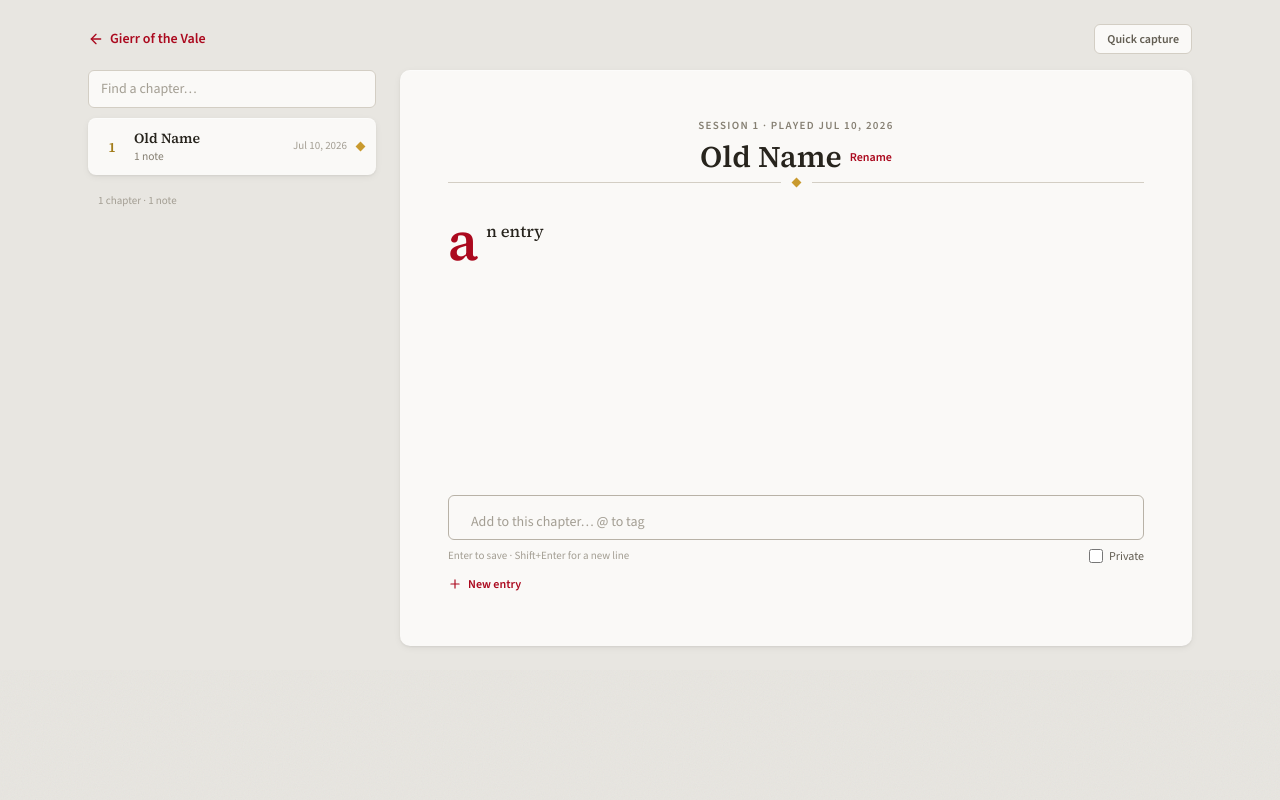
Test case: JournalPage › lets a participant rename the chapter title in place
Click the button "Rename".
click(871, 156)  # box [850, 148, 892, 164]
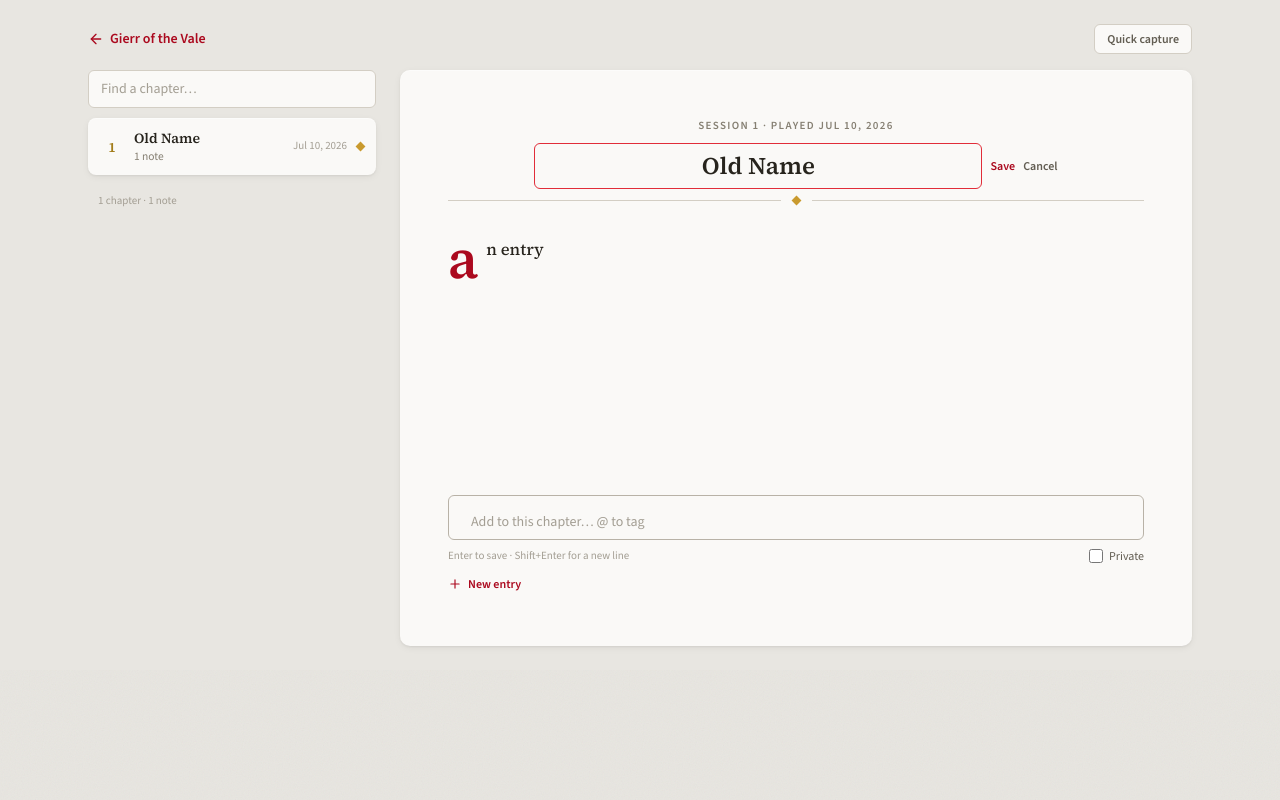
Replace the text in the field named "Chapter title" with "New Name" at (758, 166), box [534, 142, 982, 188]
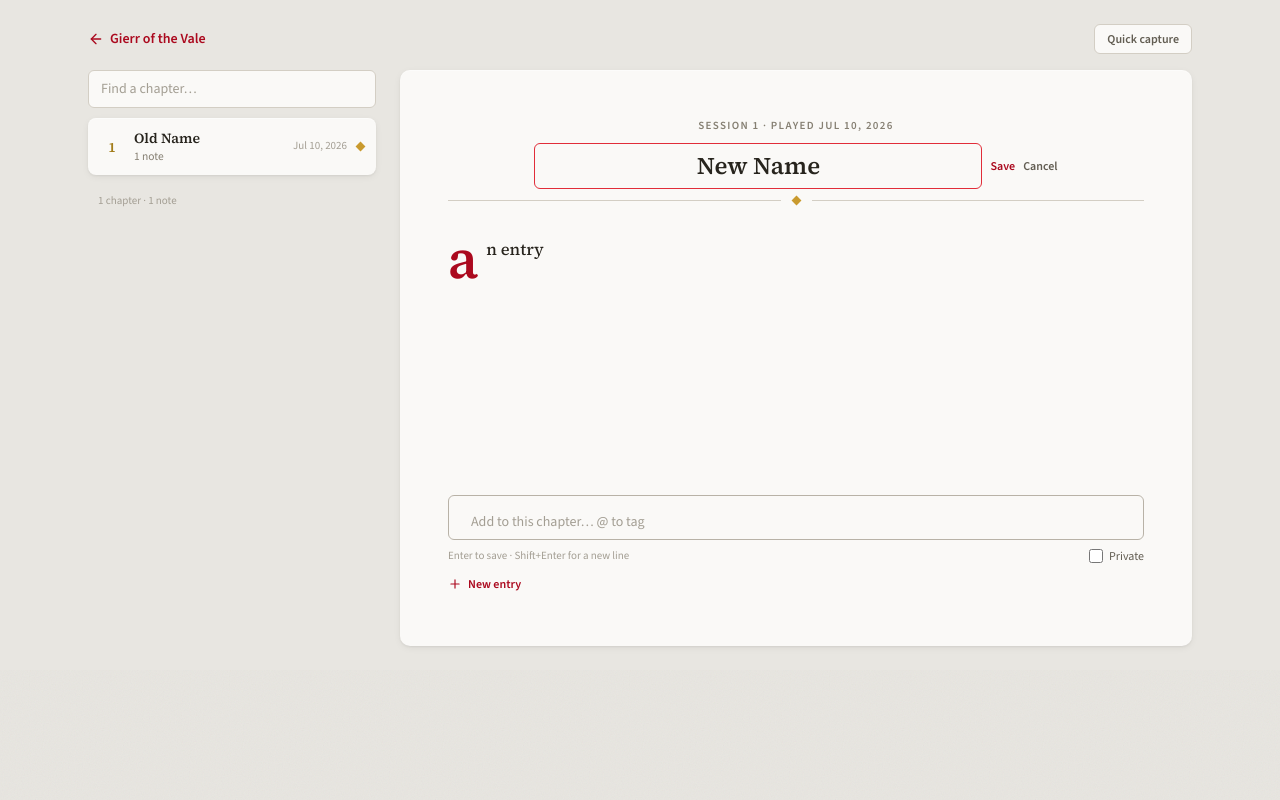
Click the button "Save".
click(1003, 166)  # box [990, 158, 1015, 174]
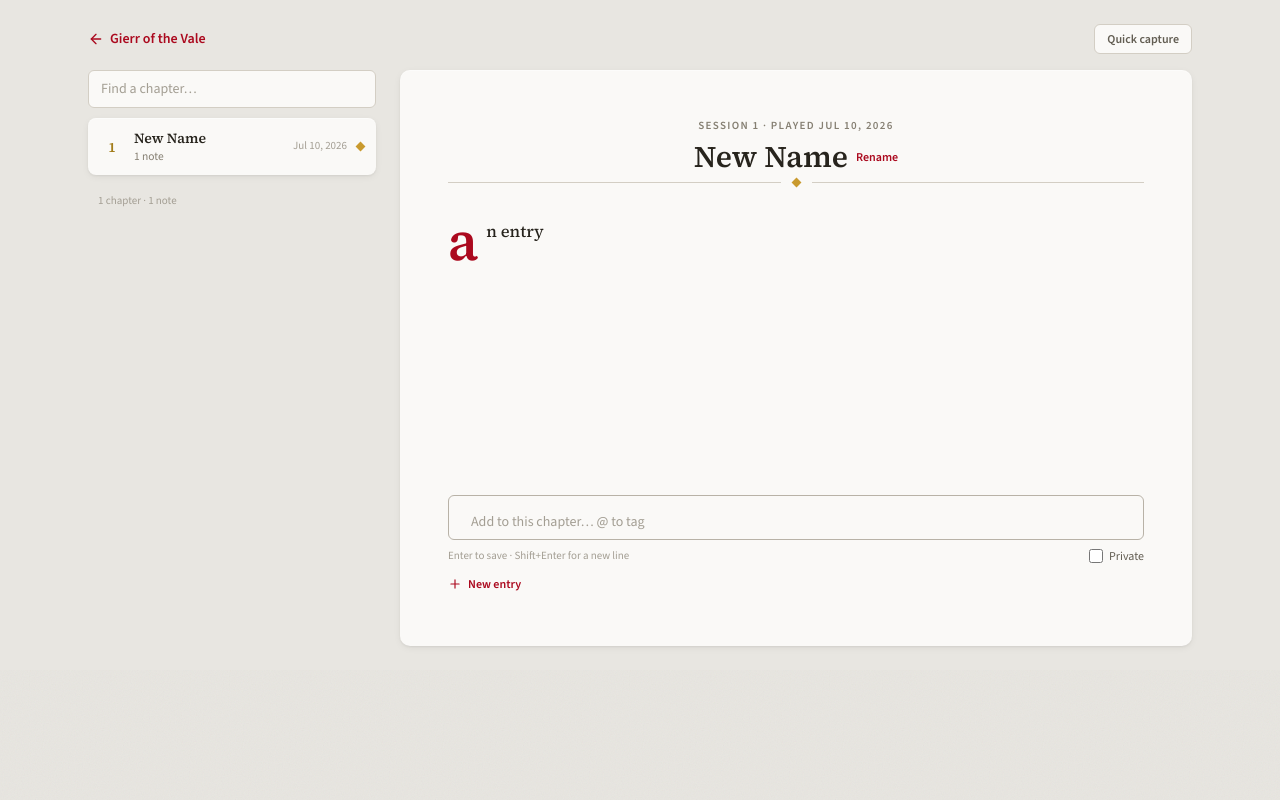
Expected: the heading "New Name" is shown, [694, 138, 848, 174]
Expected: the text "New Name" is shown, [134, 128, 206, 148]
